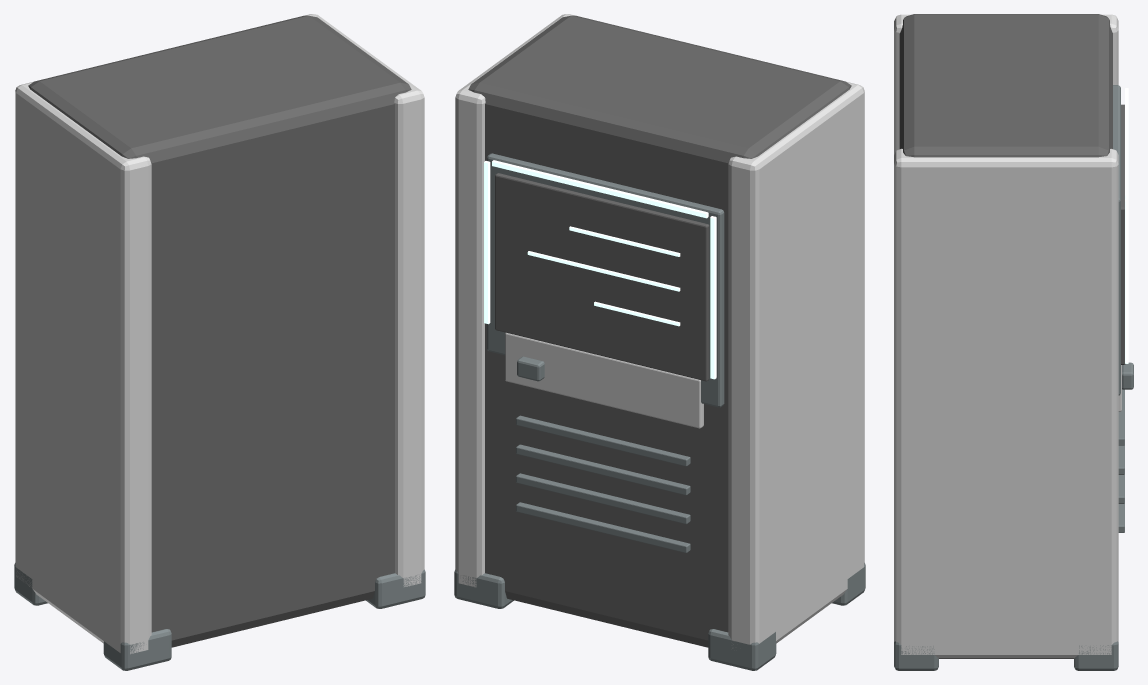
Rendered from mainframe.glb.
The picture shows the model from 3 angles, left to right: view 1: azimuth 30°, elevation 25°; view 2: azimuth 150°, elevation 25°; view 3: azimuth 270°, elevation 25°; orthographic projection.
Parts seen in each view (by area): view 1: mainframe_DarkPolymer, mainframe_WhiteArmour, mainframe_EdgeSteel; view 2: mainframe_DarkPolymer, mainframe_WhiteArmour, mainframe_EdgeSteel, mainframe_MintStatus; view 3: mainframe_WhiteArmour, mainframe_DarkPolymer, mainframe_EdgeSteel, mainframe_MintStatus.
Boxes of the visible parts, box(x1,y1,x2,y2) form: mainframe_DarkPolymer: box(28, 15, 411, 647); mainframe_WhiteArmour: box(15, 14, 424, 654); mainframe_EdgeSteel: box(14, 563, 425, 670); mainframe_DarkPolymer: box(468, 15, 851, 647); mainframe_WhiteArmour: box(455, 14, 864, 648); mainframe_EdgeSteel: box(454, 153, 865, 670); mainframe_MintStatus: box(484, 160, 716, 379); mainframe_WhiteArmour: box(894, 14, 1121, 658); mainframe_DarkPolymer: box(899, 14, 1125, 658); mainframe_EdgeSteel: box(894, 85, 1133, 670); mainframe_MintStatus: box(1125, 88, 1128, 363).
Size of the model in its own units: 1.1 by 1.78 by 0.747.
